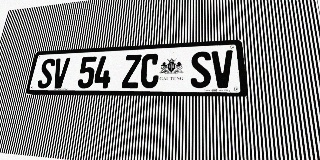4: (93, 56, 113, 88)
5: (77, 56, 97, 88)
C: (140, 53, 160, 88)
S: (190, 51, 211, 88), (37, 58, 56, 88)
V: (211, 50, 234, 88), (51, 58, 70, 88)
Z: (121, 54, 142, 88)
